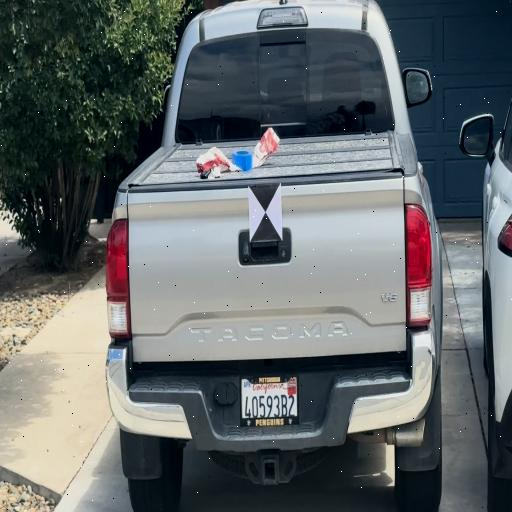target: (249, 183, 282, 241)
